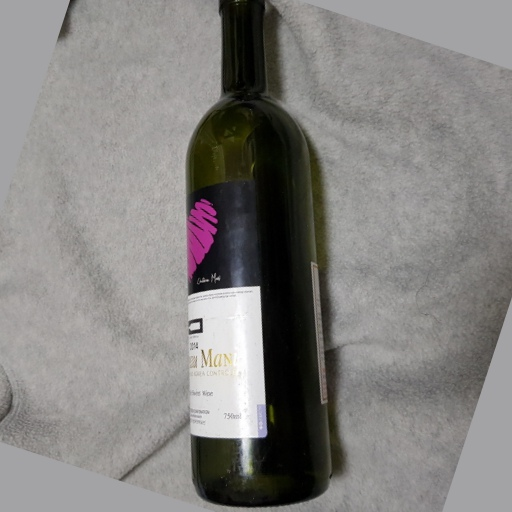Glass_2: (182, 2, 341, 512)
